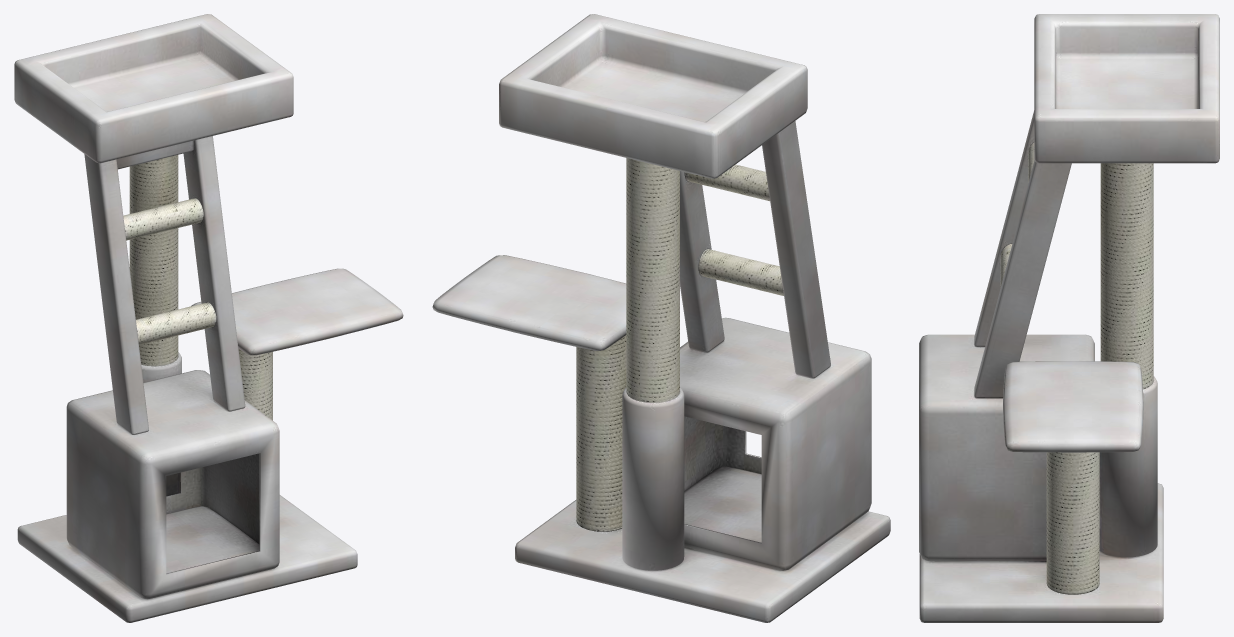
The model's file is sweethome3d-scopia-cat-tree.glb.
3 renders of one model, left to right at view 1: azimuth 30°, elevation 25°; view 2: azimuth 150°, elevation 25°; view 3: azimuth 270°, elevation 25°, orthographic. The views are drawn at different scales.
Parts seen in each view (by area): view 1: Refuge_Cube.009, Boite_Cube.014, Echelle_Cube.010, Base_Cube.008, PlateForme_Cube.003, CordesColonne_Cylinder.005, CordesEchelle_Cylinder.006, Colonne_Cube.011; view 2: Refuge_Cube.009, Boite_Cube.014, CordesColonne_Cylinder.005, Base_Cube.008, Echelle_Cube.010, PlateForme_Cube.003, Colonne_Cube.011, CordesEchelle_Cylinder.006; view 3: Boite_Cube.014, Refuge_Cube.009, CordesColonne_Cylinder.005, Base_Cube.008, PlateForme_Cube.003, Echelle_Cube.010, Colonne_Cube.011, CordesEchelle_Cylinder.006.
Boxes of the visible parts, x1=… form: Refuge_Cube.009: x1=66, y1=370, x2=279, y2=598; Boite_Cube.014: x1=14, y1=14, x2=293, y2=163; Echelle_Cube.010: x1=84, y1=136, x2=245, y2=434; Base_Cube.008: x1=17, y1=495, x2=357, y2=622; PlateForme_Cube.003: x1=191, y1=268, x2=403, y2=355; CordesColonne_Cylinder.005: x1=129, y1=155, x2=272, y2=420; CordesEchelle_Cylinder.006: x1=123, y1=198, x2=216, y2=344; Colonne_Cube.011: x1=141, y1=352, x2=181, y2=495; Refuge_Cube.009: x1=680, y1=317, x2=871, y2=570; Boite_Cube.014: x1=499, y1=14, x2=807, y2=178; CordesColonne_Cylinder.005: x1=576, y1=158, x2=679, y2=531; Base_Cube.008: x1=515, y1=500, x2=890, y2=622; Echelle_Cube.010: x1=680, y1=121, x2=830, y2=378; PlateForme_Cube.003: x1=432, y1=255, x2=626, y2=350; Colonne_Cube.011: x1=622, y1=387, x2=684, y2=570; CordesEchelle_Cylinder.006: x1=684, y1=164, x2=783, y2=295; Boite_Cube.014: x1=1034, y1=14, x2=1219, y2=163; Refuge_Cube.009: x1=919, y1=334, x2=1094, y2=560; CordesColonne_Cylinder.005: x1=1046, y1=163, x2=1153, y2=594; Base_Cube.008: x1=919, y1=483, x2=1163, y2=622; PlateForme_Cube.003: x1=1003, y1=361, x2=1143, y2=452; Echelle_Cube.010: x1=974, y1=110, x2=1071, y2=398; Colonne_Cube.011: x1=1099, y1=376, x2=1157, y2=557; CordesEchelle_Cylinder.006: x1=1000, y1=142, x2=1034, y2=287.
Bounding box in the file's own units: 65 × 89.64 × 48.76.
8 materials, 8 textured.
